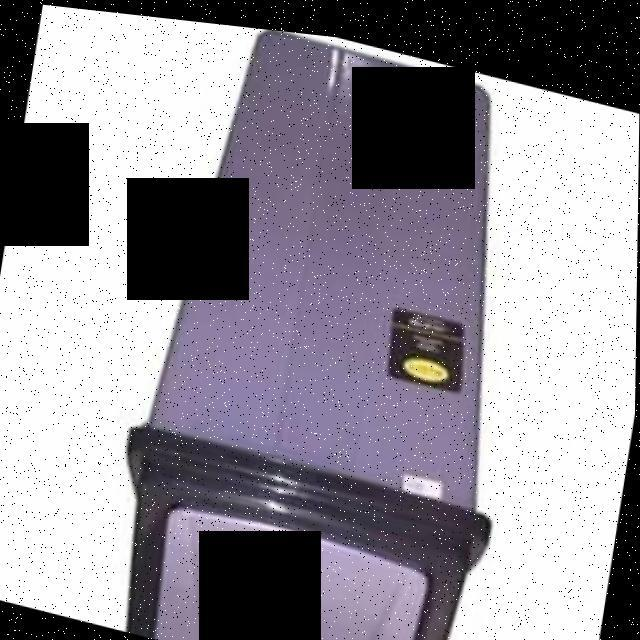bin: (39, 4, 640, 640)
